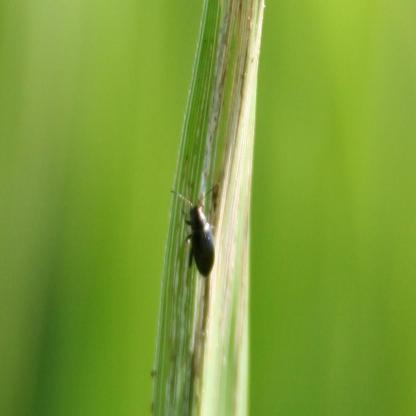rice-bug: (183, 187, 219, 279)
